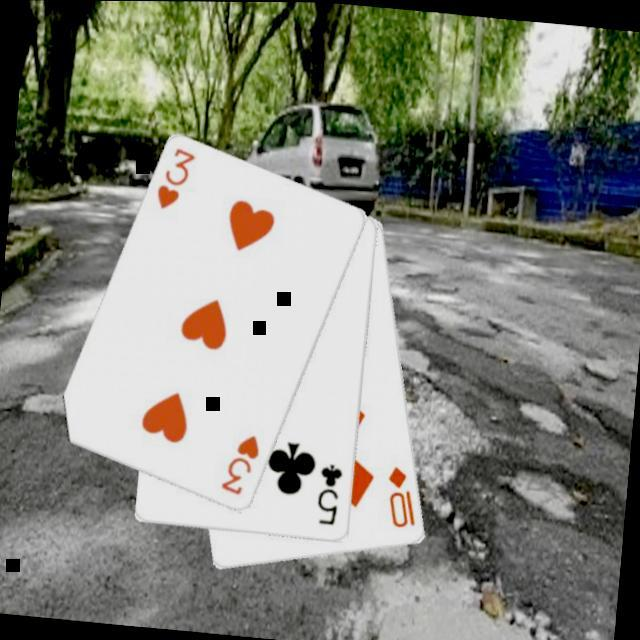10D: (380, 460, 423, 530)
3H: (151, 142, 199, 214), (216, 427, 264, 498)
5C: (311, 458, 345, 527)
